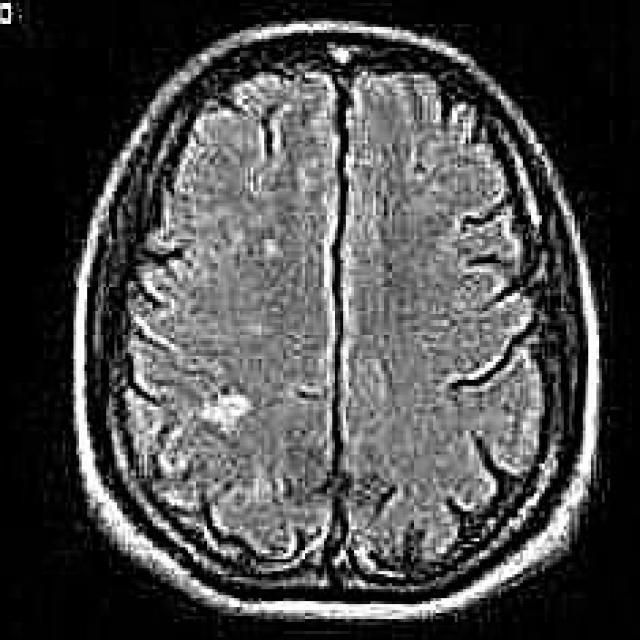notumor: (74, 21, 599, 625)
